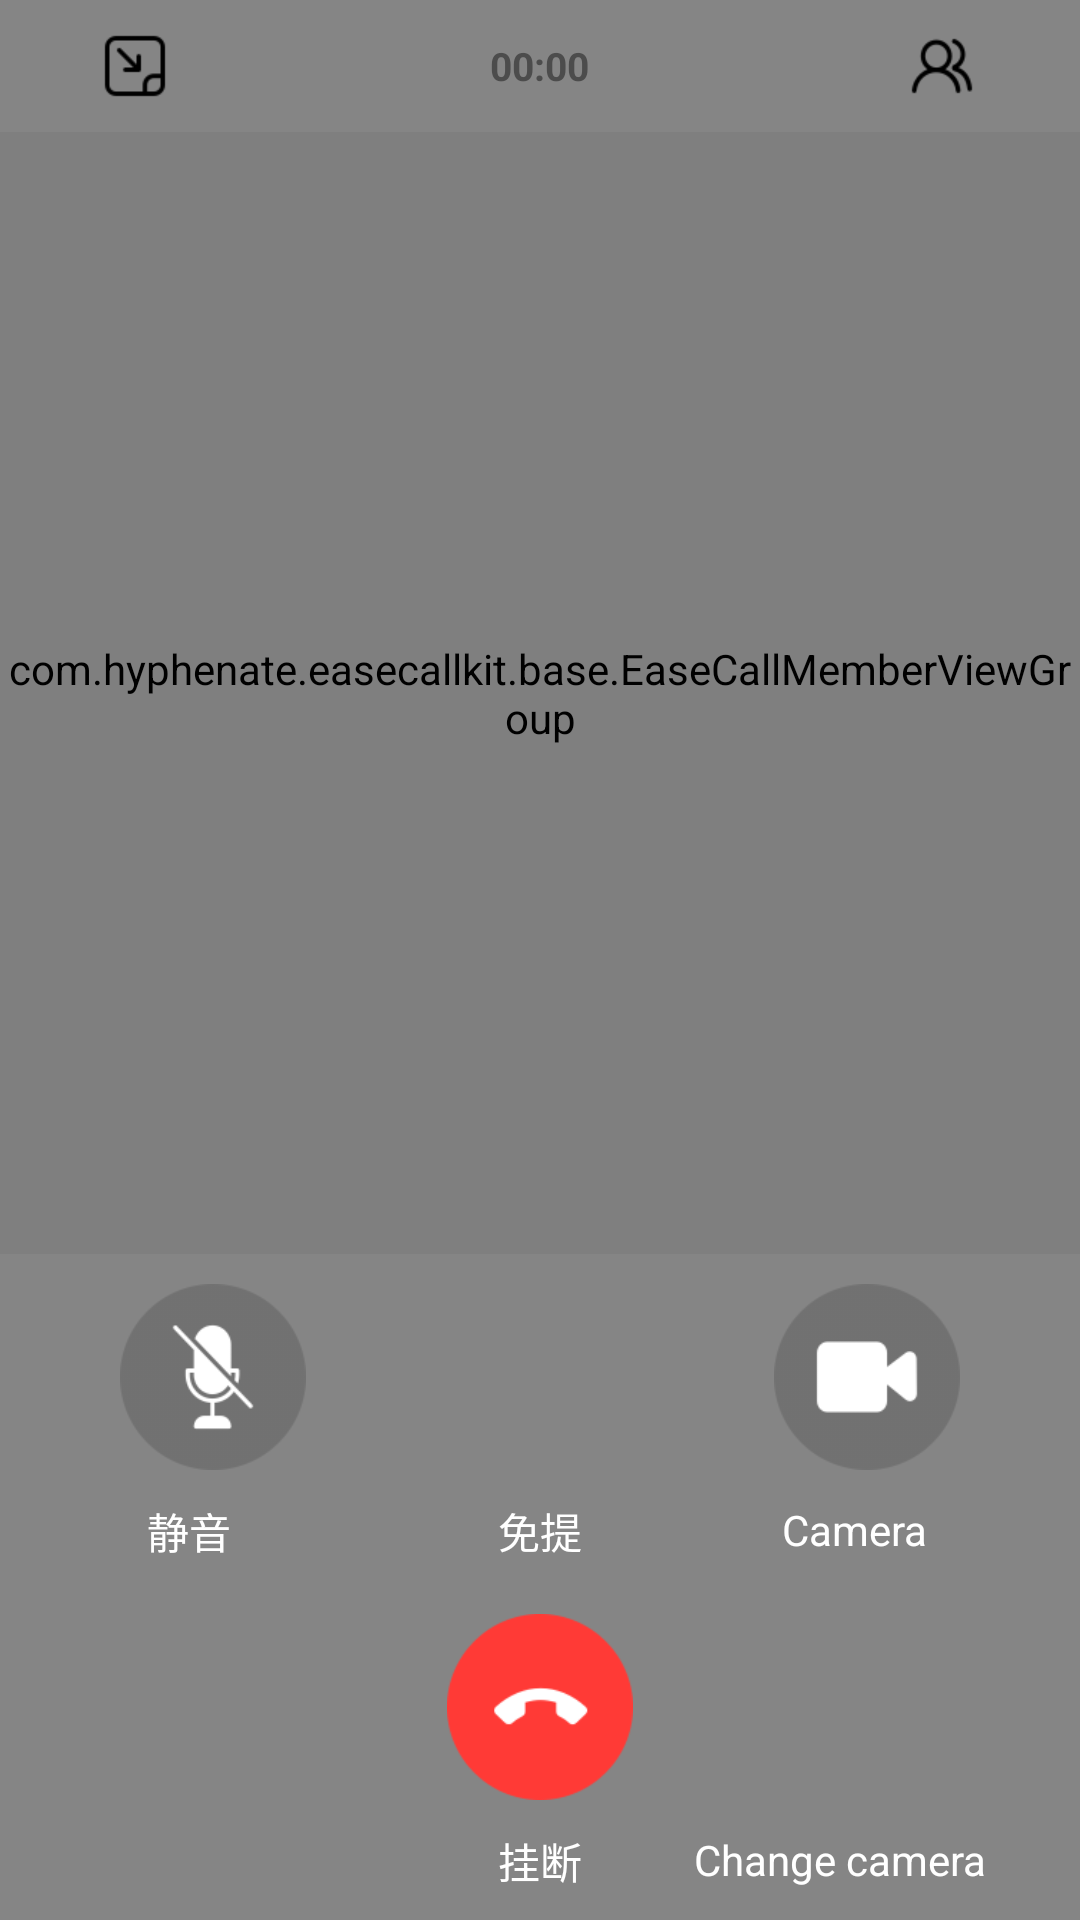

Icon bounding boxes for this 1080px×1920px phone screenshot, format [left=x1, top=y1, right=x2, bottom=y2]:
audio unmute: [left=120, top=1284, right=306, bottom=1470]
call invite: [left=912, top=39, right=972, bottom=93]
call mini: [left=105, top=36, right=165, bottom=96]
video 0ff: [left=817, top=1341, right=917, bottom=1413]
